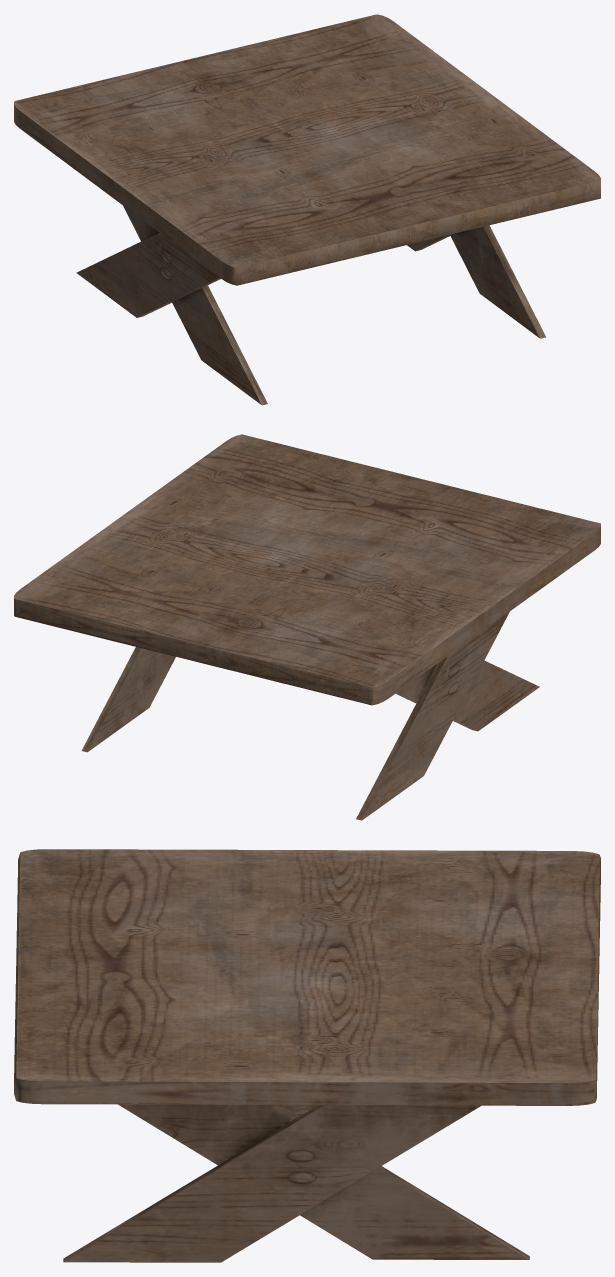
File: Table_Short.fbx
3 renders of one model, top to bottom at view 1: azimuth 30°, elevation 25°; view 2: azimuth 150°, elevation 25°; view 3: azimuth 270°, elevation 25°, orthographic. The views are drawn at different scales.
Visible parts, largest first — view 1: MainHall_Table_6.015; view 2: MainHall_Table_6.015; view 3: MainHall_Table_6.015.
Boxes of the visible parts, x1,y1,x2,y2 form: MainHall_Table_6.015: (14, 14, 600, 405); MainHall_Table_6.015: (14, 434, 600, 820); MainHall_Table_6.015: (14, 849, 600, 1262).
Bounding box in the file's own units: 212 × 87.28 × 225.
